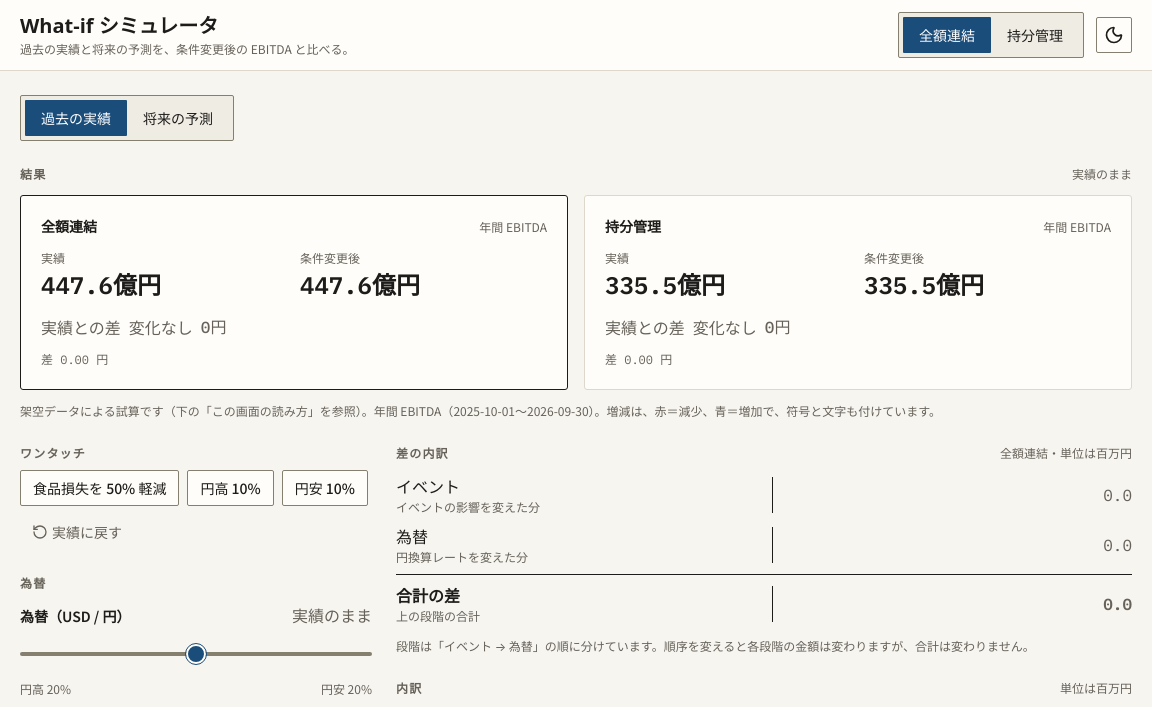
Test: Simulator の操作 › ワンタッチ「円高 10%」で、為替が −10% になり、結果が減少と符号つきで出る
The width and height of the screenshot is (1152, 707).
Click the button "円高 10%" at (231, 488), box [187,470,274,506]
Wait 250 ms
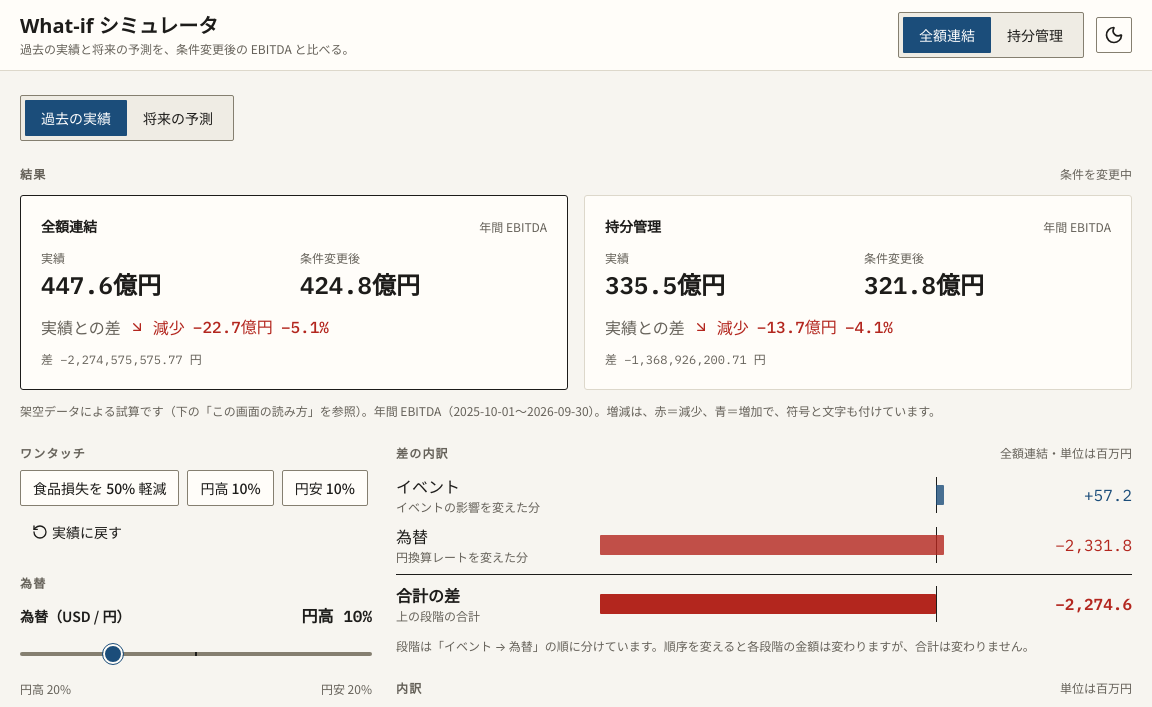
Now the text "減少" next to "−22.7億円" is shown, box [153,315,185,339]
Now the text "−22.7億円" is shown, box [193,315,273,339]
Now the text "差 −2,274,575,575.77 円" is shown, box [41,352,202,367]
